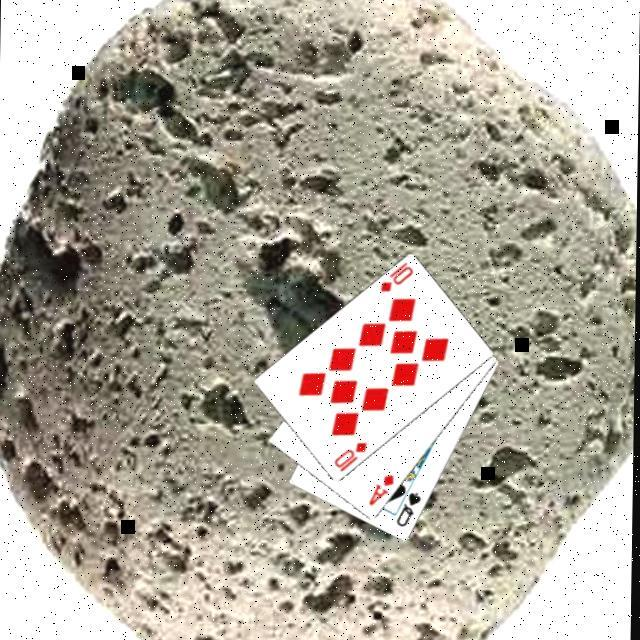10D: (334, 438, 372, 474), (380, 258, 418, 294)
AD: (368, 471, 398, 508)
QS: (396, 489, 426, 529)
